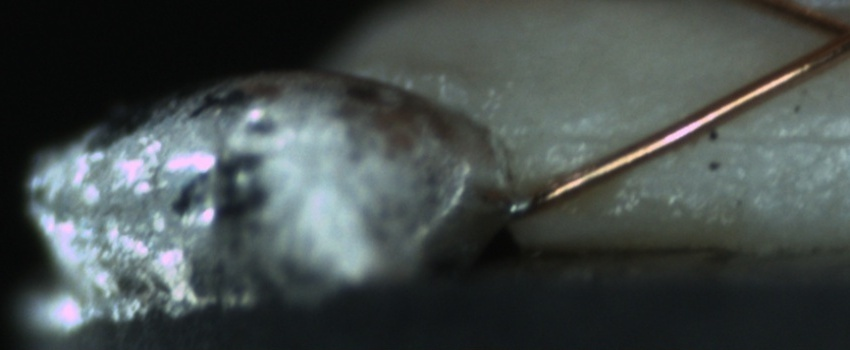CL: (801, 2, 850, 66)
DL: (532, 104, 849, 169)
